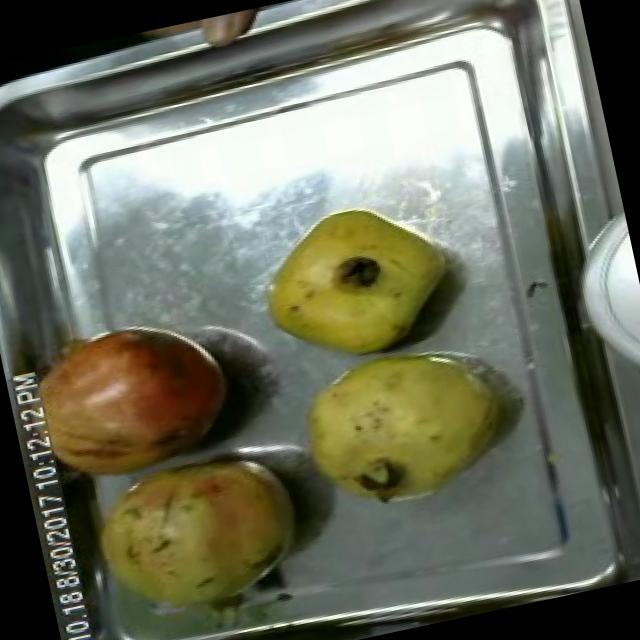fruit: (274, 322, 530, 532), (71, 432, 322, 636), (0, 299, 249, 502), (237, 182, 472, 380), (188, 3, 280, 52)
